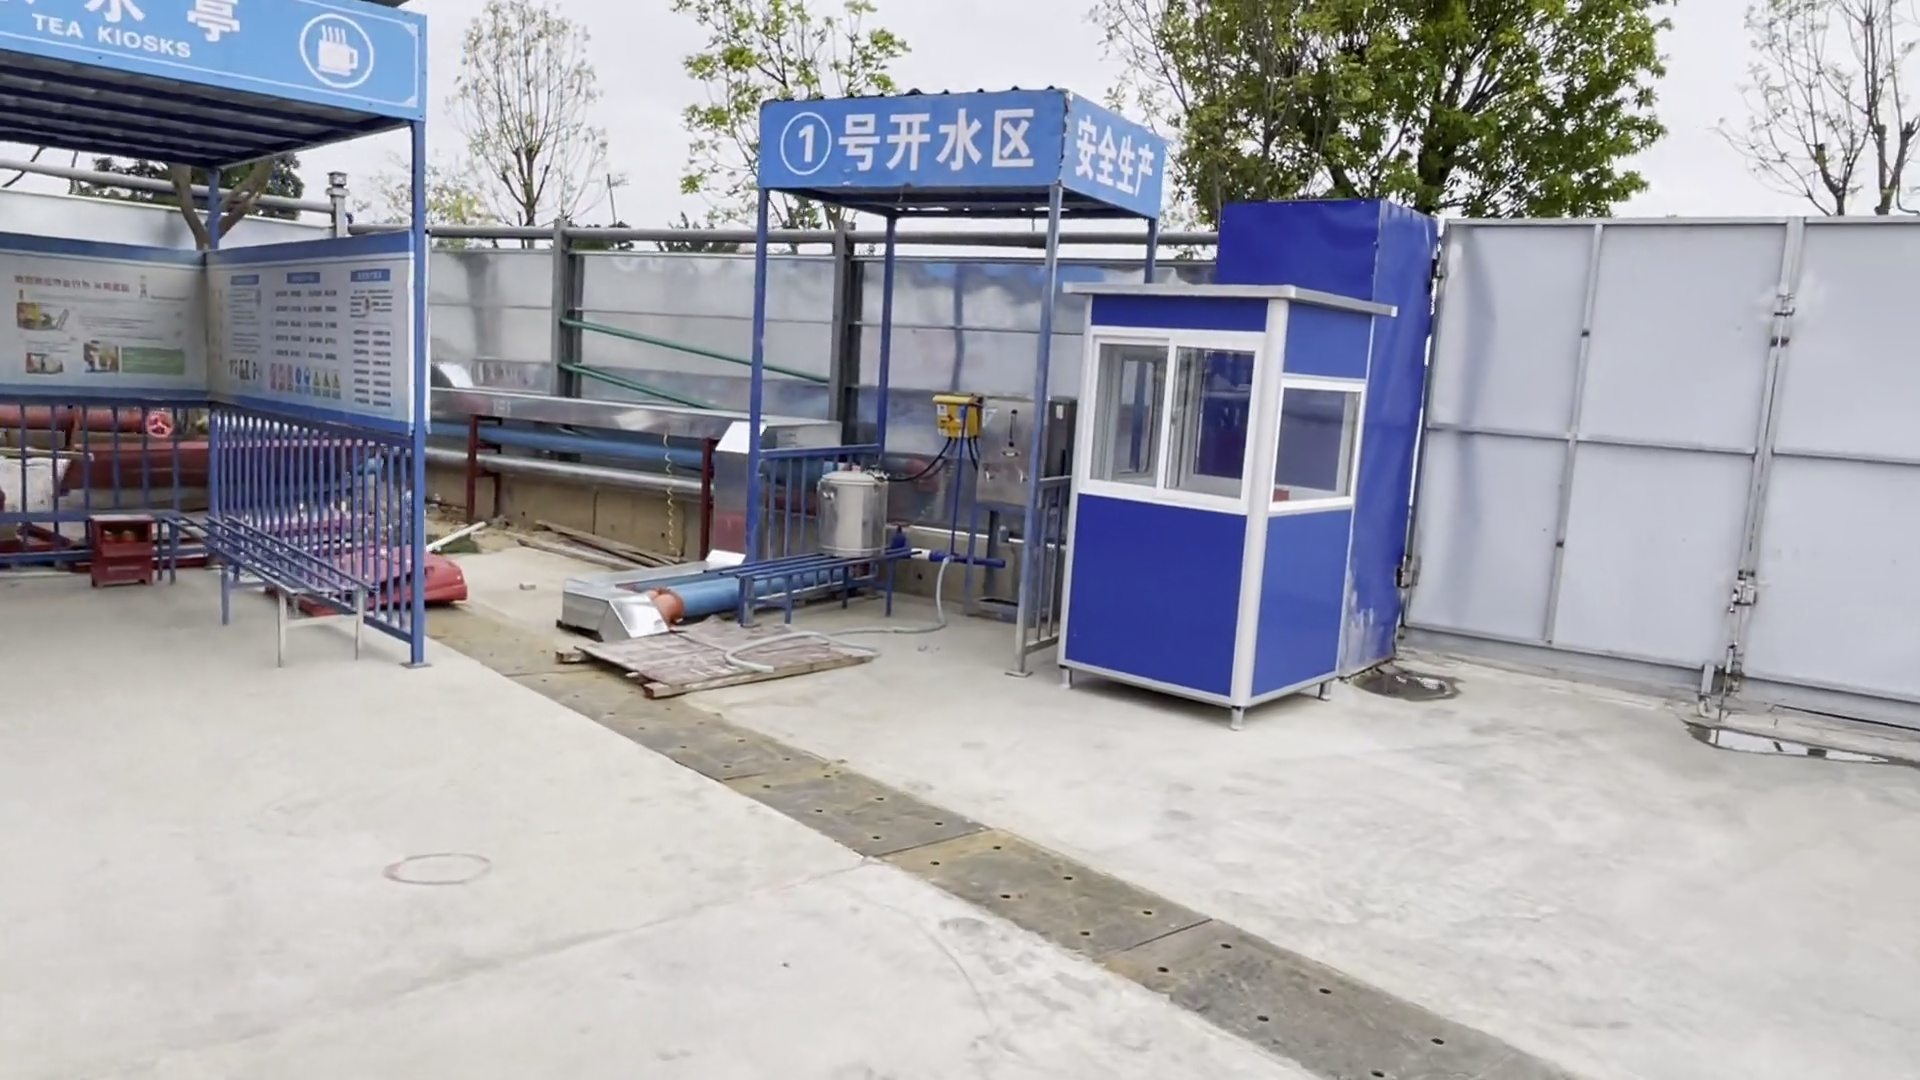ebox: (932, 396, 975, 440)
slogan: (1064, 100, 1164, 212)
